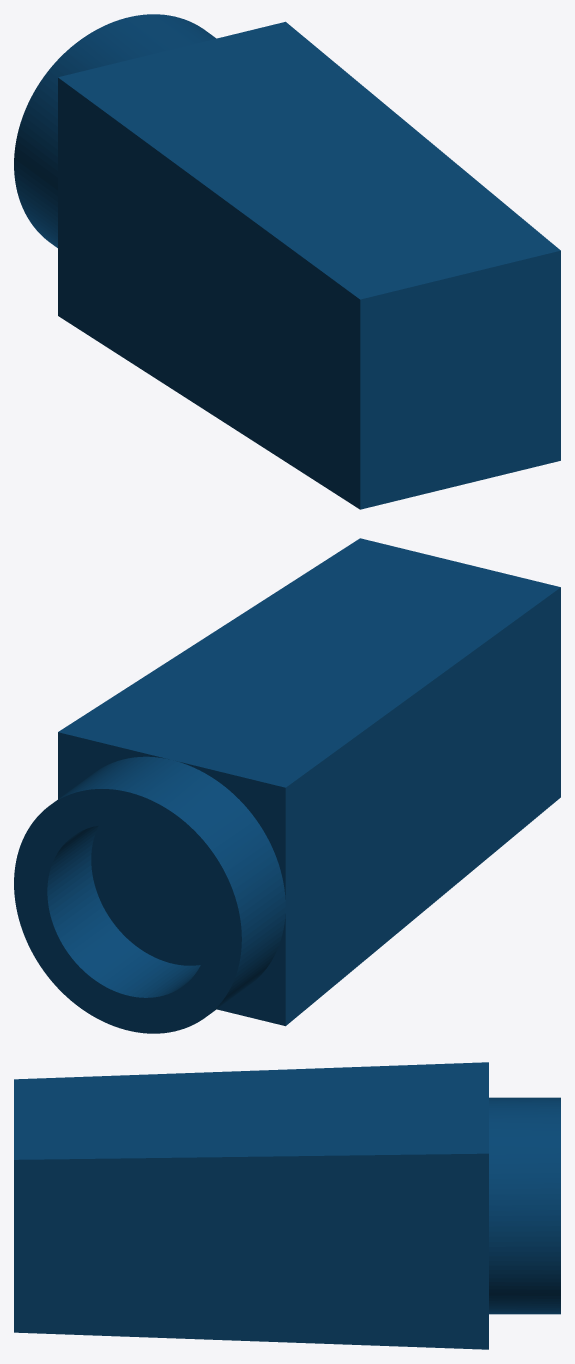
The picture shows the model from 3 angles, top to bottom: view 1: azimuth 30°, elevation 25°; view 2: azimuth 150°, elevation 25°; view 3: azimuth 270°, elevation 25°; orthographic projection. The views are drawn at different scales.
Parts seen in each view (by area): view 1: node; view 2: node; view 3: node.
Part boxes in pixels (x1,y1,x2,y2): node: [14, 14, 560, 509]; node: [14, 538, 560, 1033]; node: [14, 1062, 560, 1349].
Bounding box in the file's own units: 0.0456 × 0.0456 × 0.1152.
